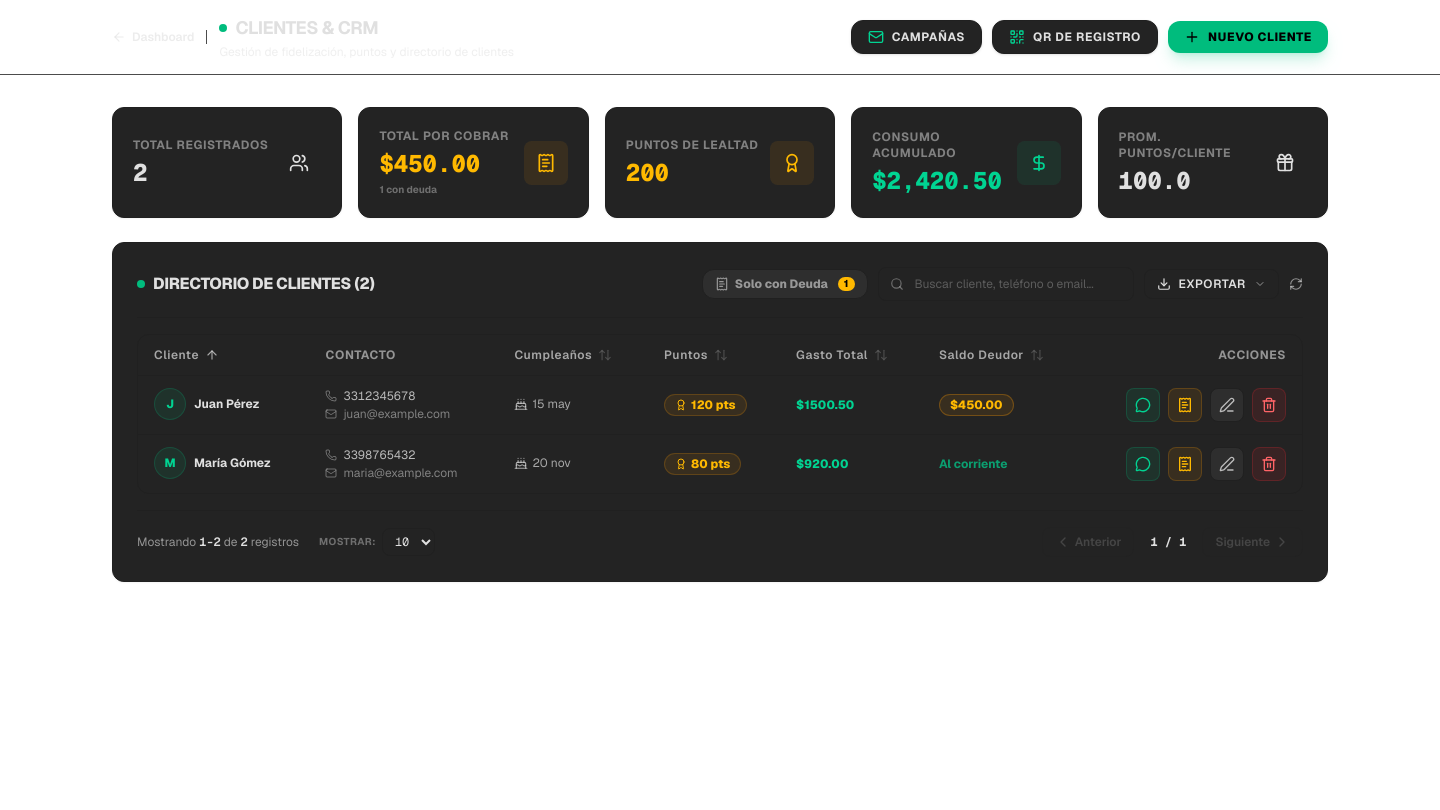
Scenario: CustomersContent Component › should filter customers with 'Solo con Deuda' toggle
The image size is (1440, 810).
Expected: the text "Juan Pérez" is shown, 194,396 -> 260,412
Expected: the text "María Gómez" is shown, 194,455 -> 271,471
Click the button "Solo con Deuda 1". click: point(785, 284)
box: 702,269 -> 868,299
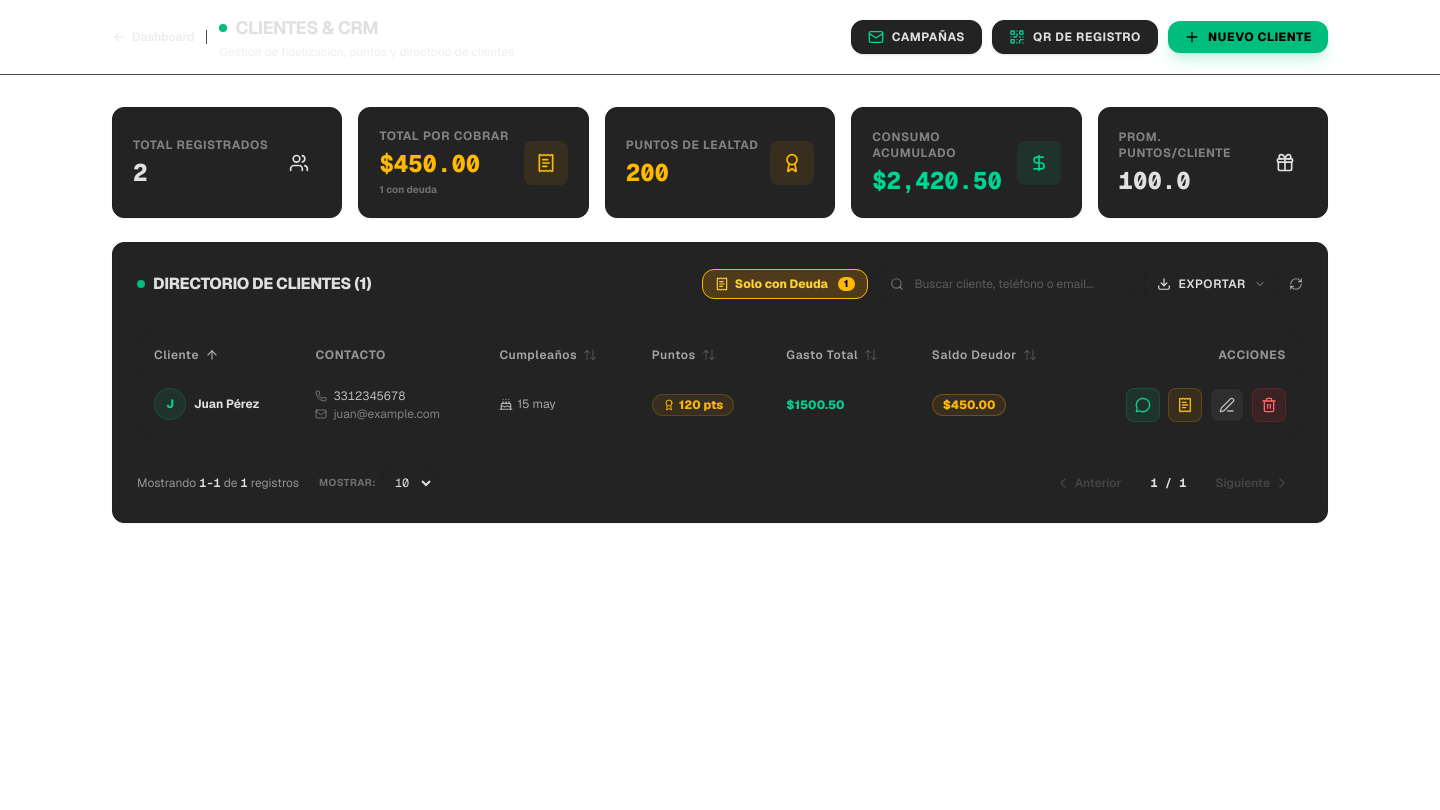
Expected: the text "Juan Pérez" is shown, 194,396 -> 260,412
Result: the text "María Gómez" is gone
// Toggle off
Click the button "Solo con Deuda 1". click: point(785, 284)
box: 702,269 -> 868,299
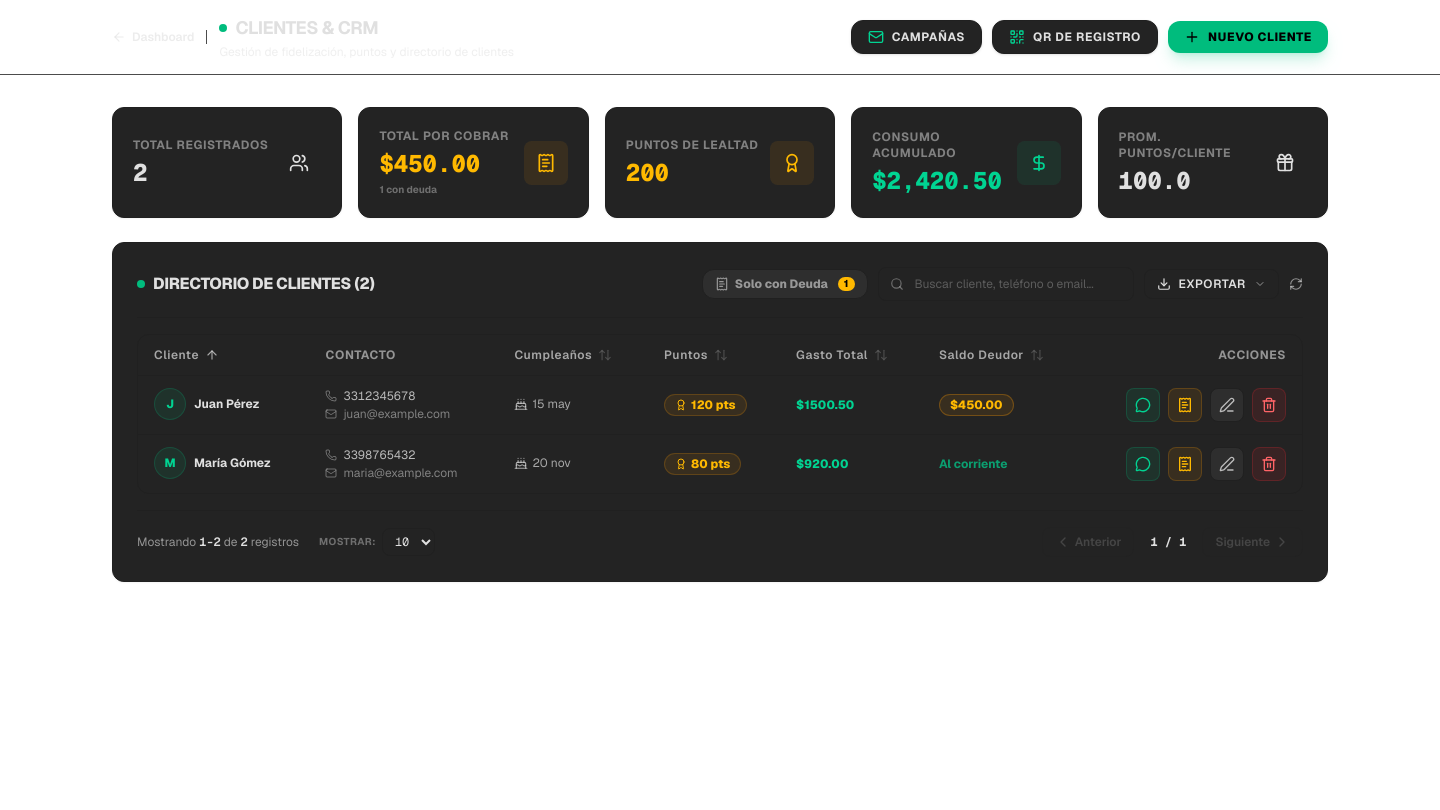
Result: the text "María Gómez" is shown at 194,455 -> 271,471
